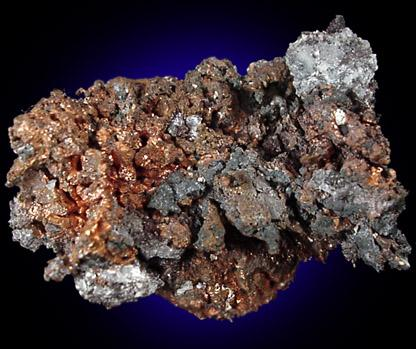copper: (7, 57, 396, 264), (159, 232, 313, 320)
